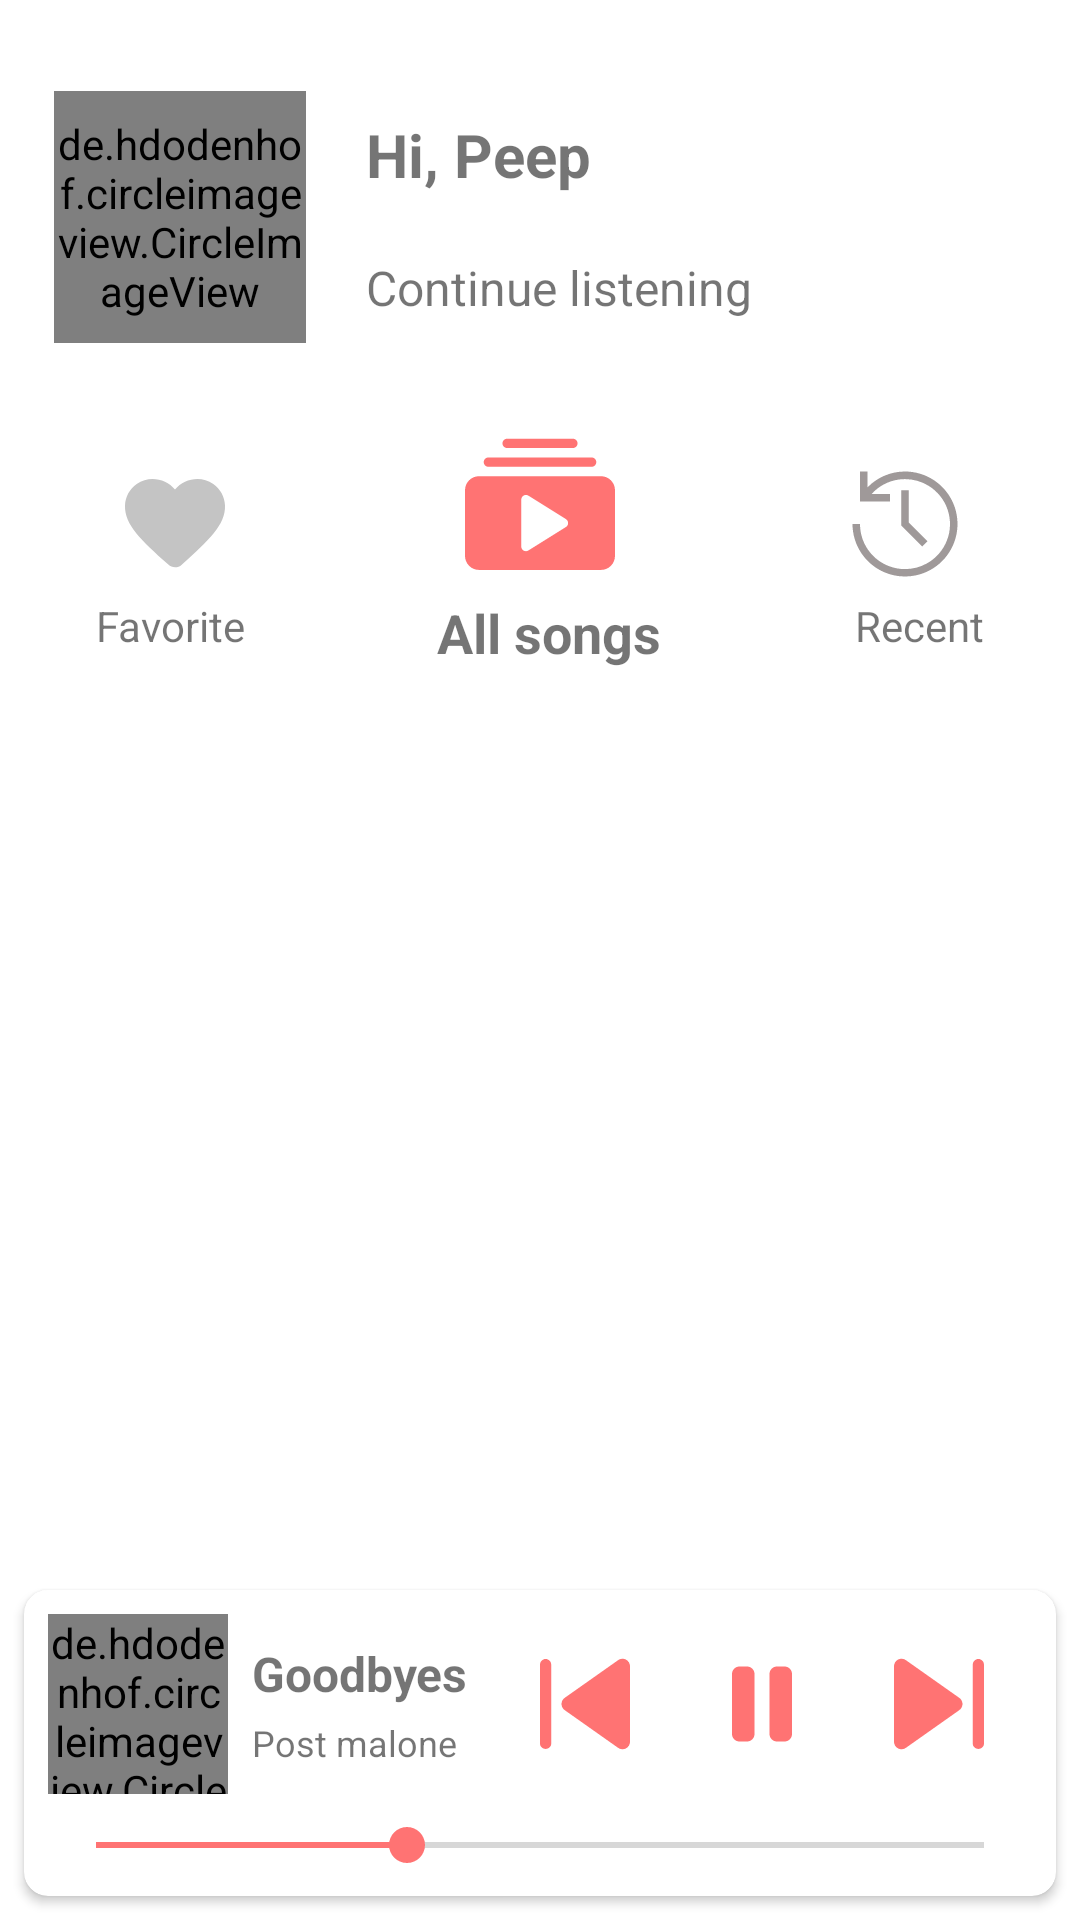

Screen size 1080 × 1920. Icon name, then its center in pixels as (x=x, y=y):
next: (x=939, y=1704)
pause: (x=762, y=1704)
prev: (x=585, y=1704)
